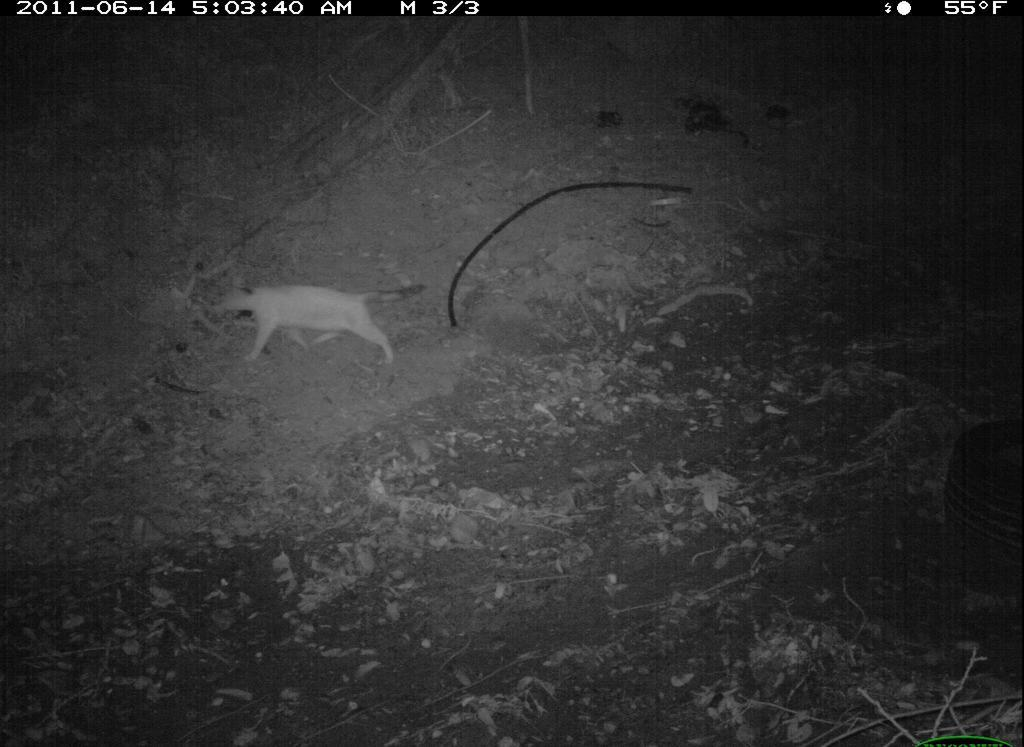cat: (223, 271, 437, 382)
